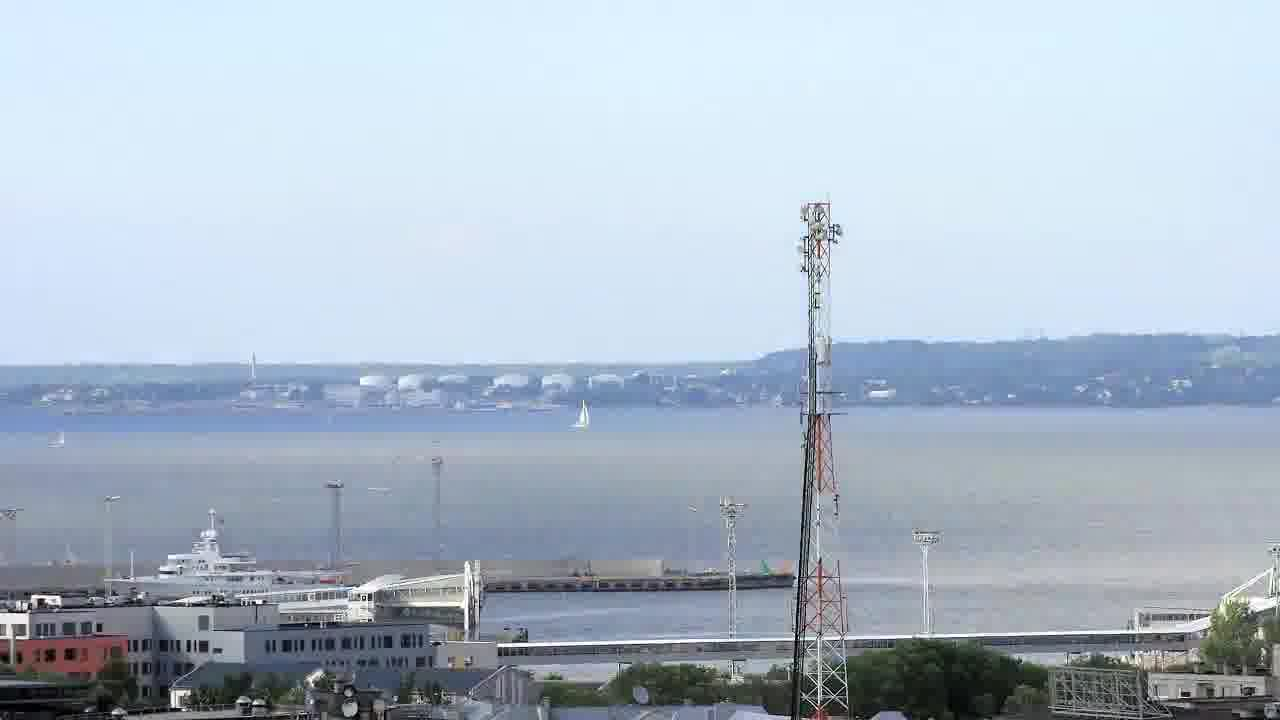type-2: (557, 387, 614, 443)
type-3: (88, 507, 346, 605)
